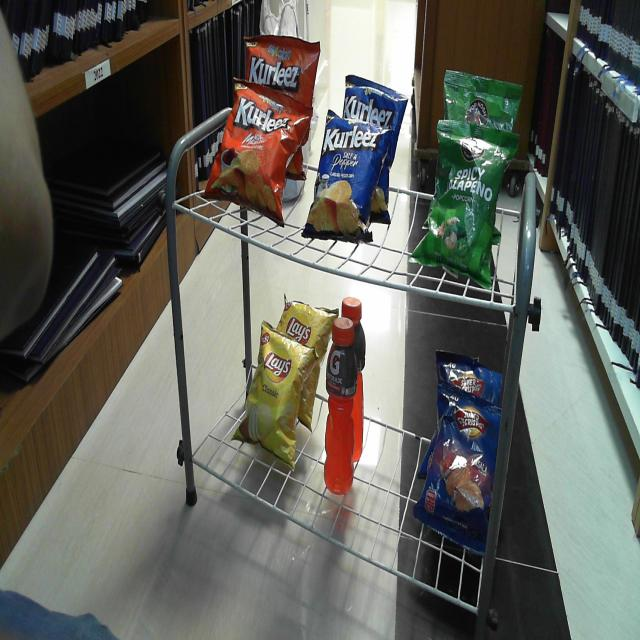Plastic: (418, 130, 509, 286), (208, 89, 304, 221), (420, 402, 498, 548), (235, 337, 309, 462), (308, 120, 379, 246), (242, 31, 321, 94), (442, 65, 522, 127), (328, 318, 356, 490), (435, 348, 503, 398), (344, 70, 406, 124), (276, 292, 330, 339)
